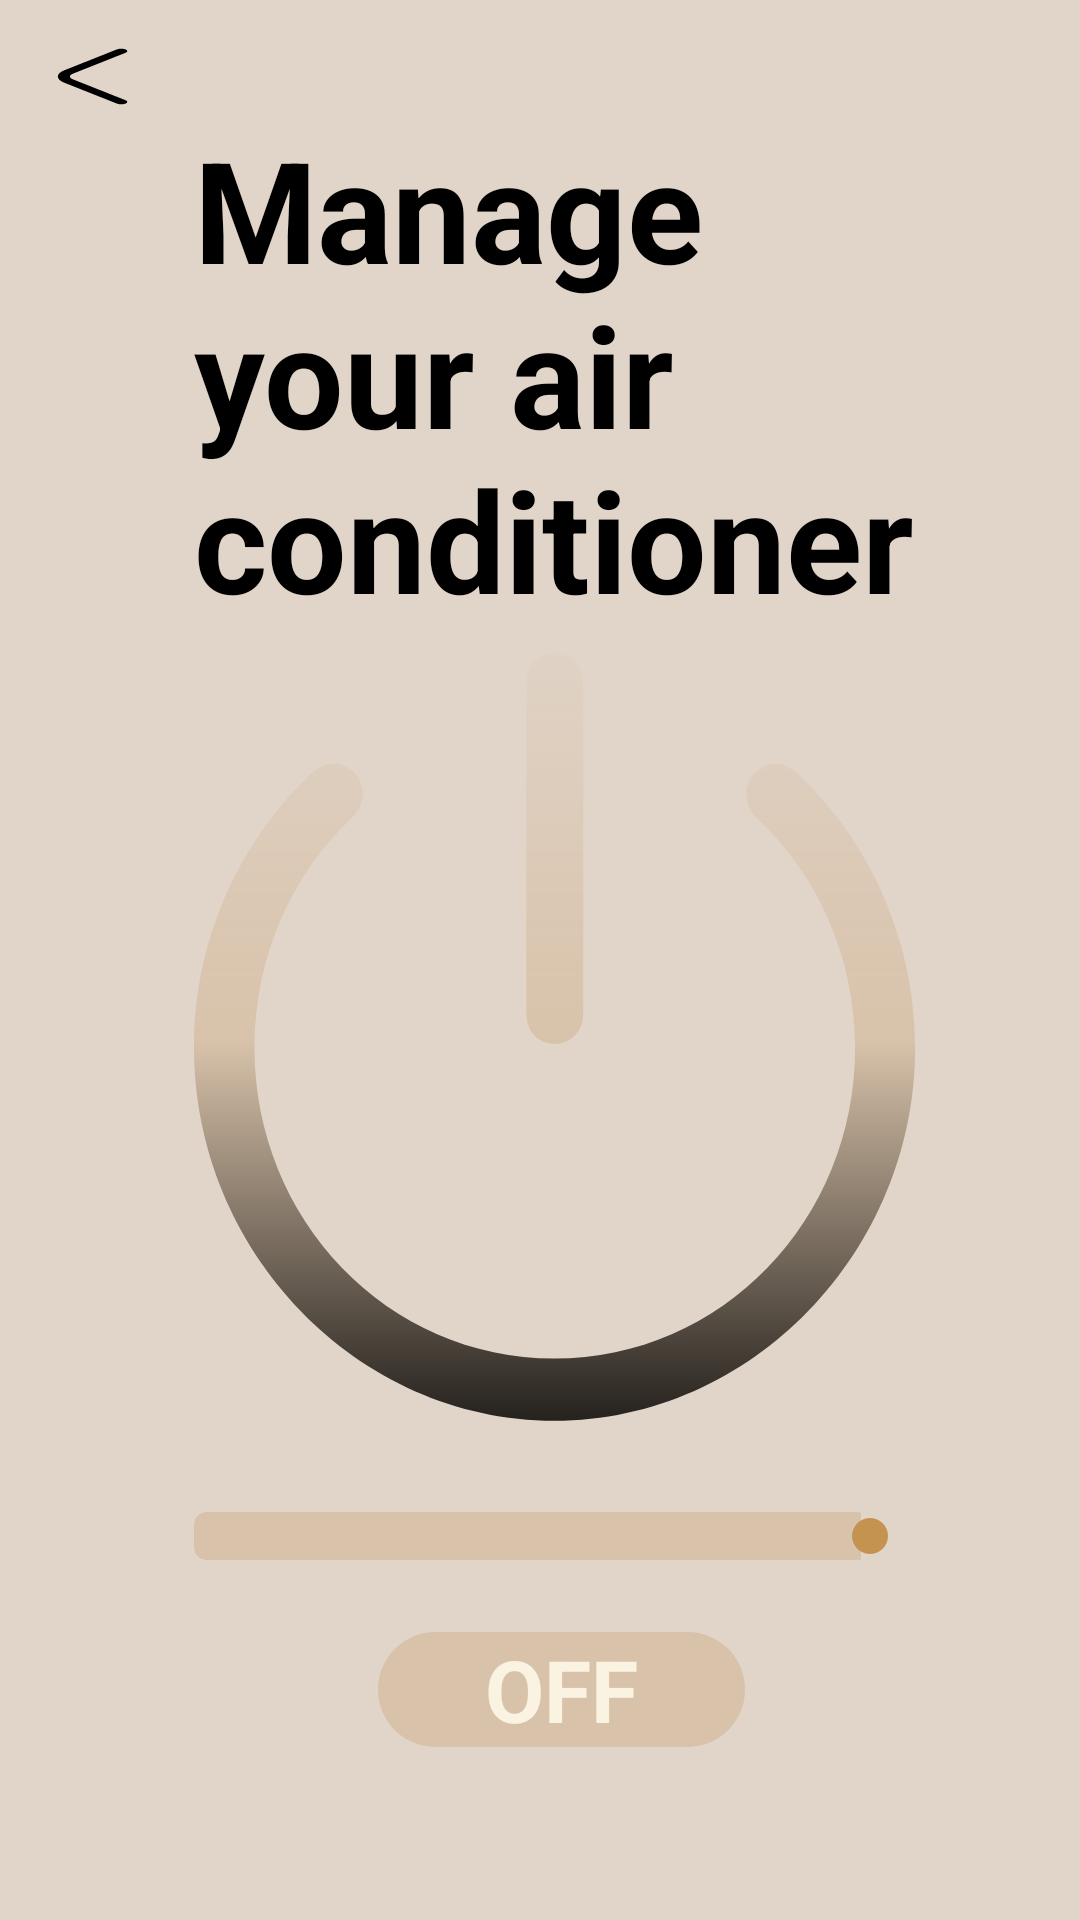

Icons on this 1080×1920 Android screen, each with its box as {"x1": x1, "y1": y1, "x2": x2, "y2": y2}:
arrow left: {"x1": 57, "y1": 48, "x2": 128, "y2": 105}
